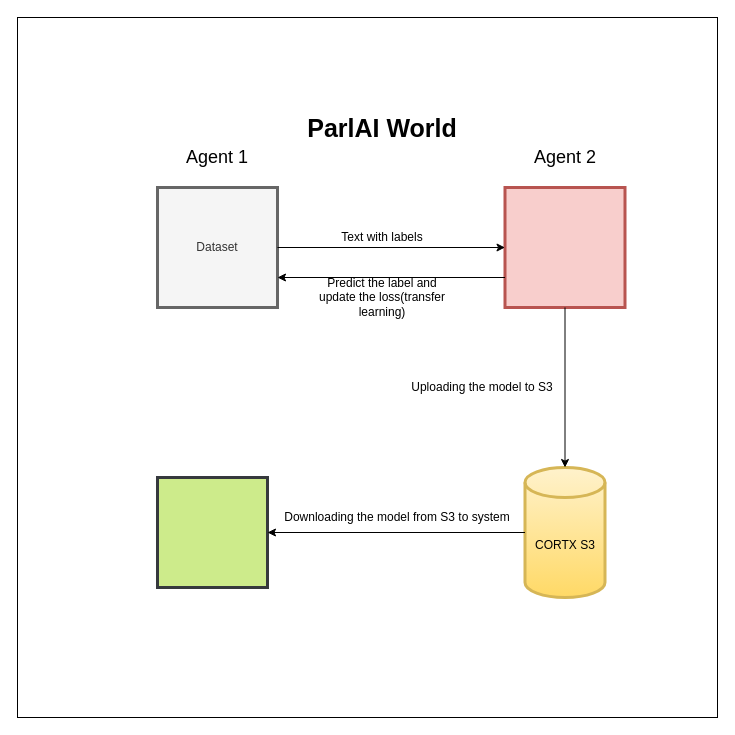
This 735x735 diagram has some shape labels left out. The centre of each missing label's shape, as x and y in pixels:
Flask web app: the point at 212,532
Transformer model: the point at 564,247
